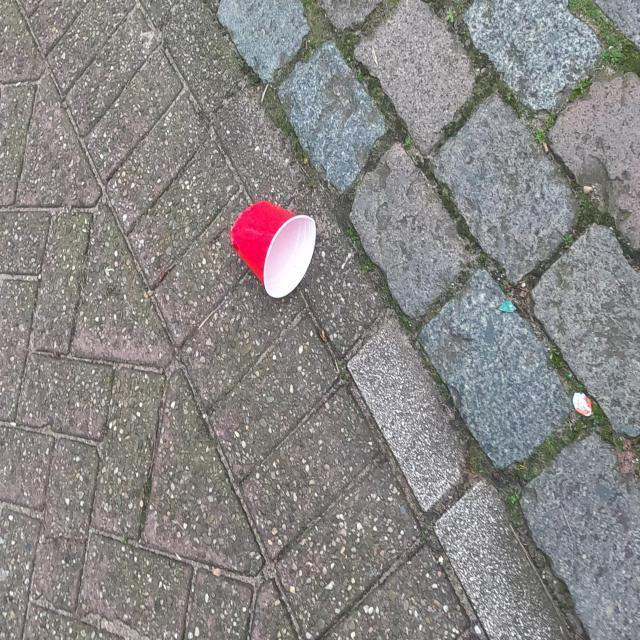Cup: (228, 198, 318, 300)
